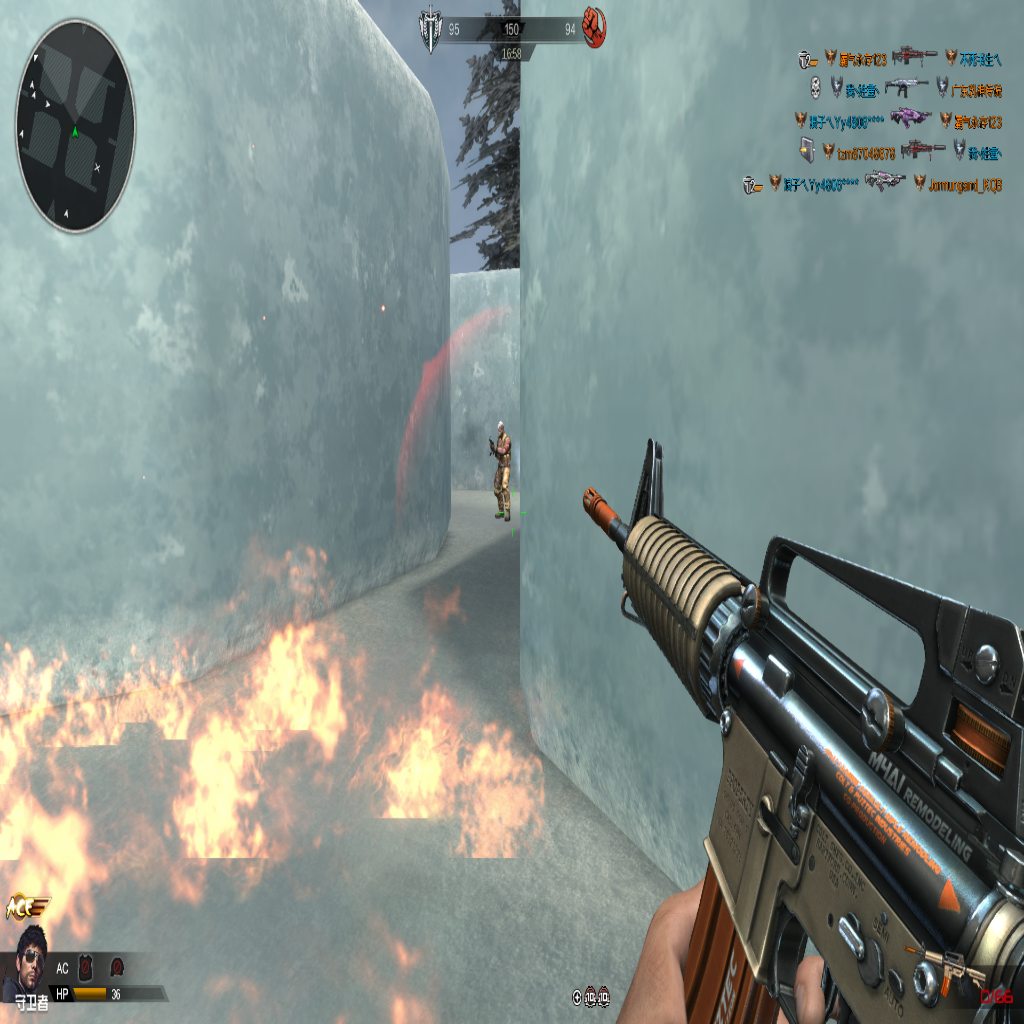tt: (490, 420, 510, 518)
